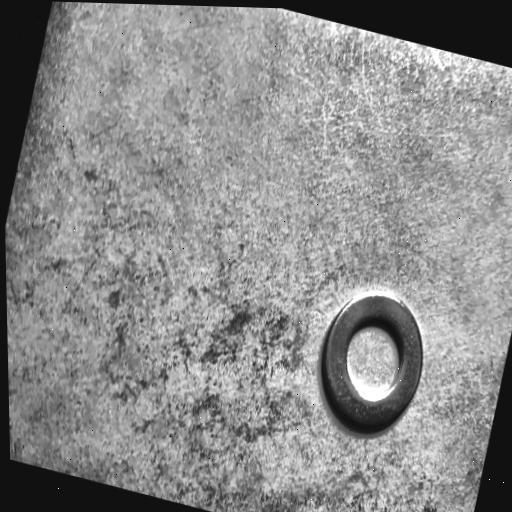Washer: (320, 293, 424, 436)
